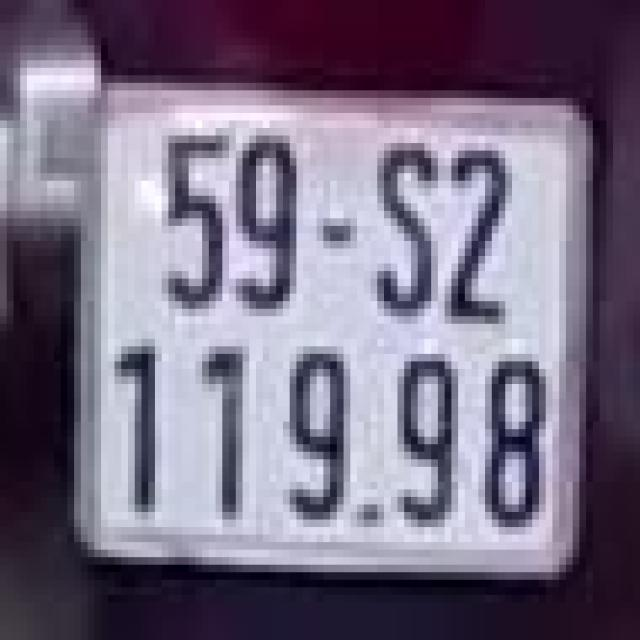1: (192, 335, 259, 523), (108, 331, 168, 527)
2: (441, 132, 529, 335)
5: (155, 117, 229, 320)
8: (482, 342, 549, 538)
9: (384, 338, 472, 534), (276, 335, 357, 523), (232, 124, 306, 320)
S: (367, 124, 441, 328)
